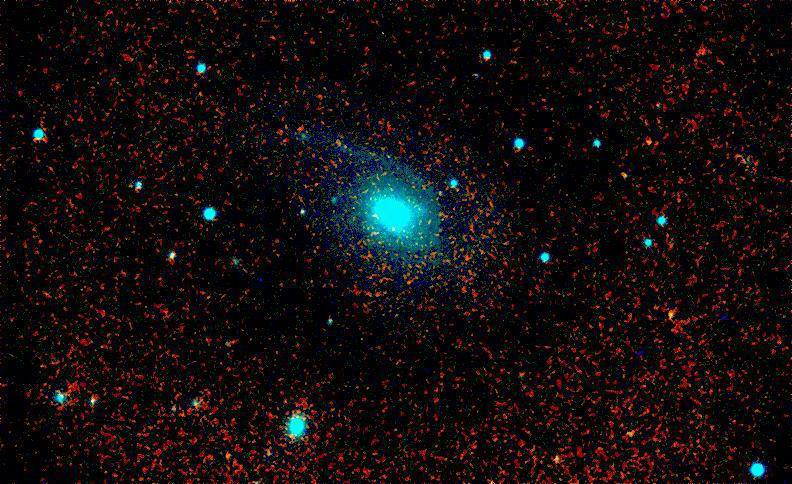star: (630, 131, 660, 161)
